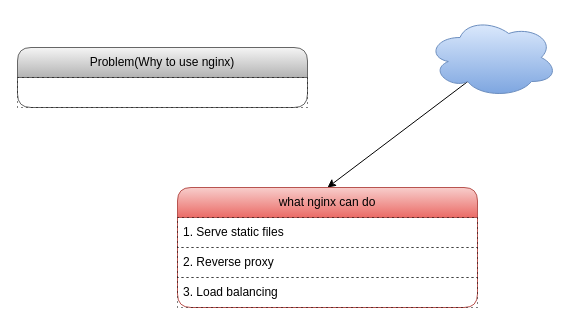
This 575x325 diagram has some shape labels left out. The shapes that lost their labels are listed below. From the top down, each one's centre as x and y in pixels, then its label:
At pixel 492 57: "NGINX".
At pixel 162 92: "1. cannot run multiple sever on port 80".
